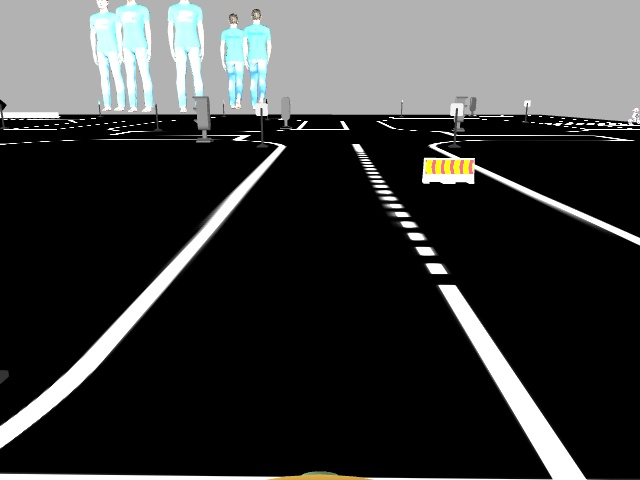ClosedRoadStand: (423, 155, 473, 184)
